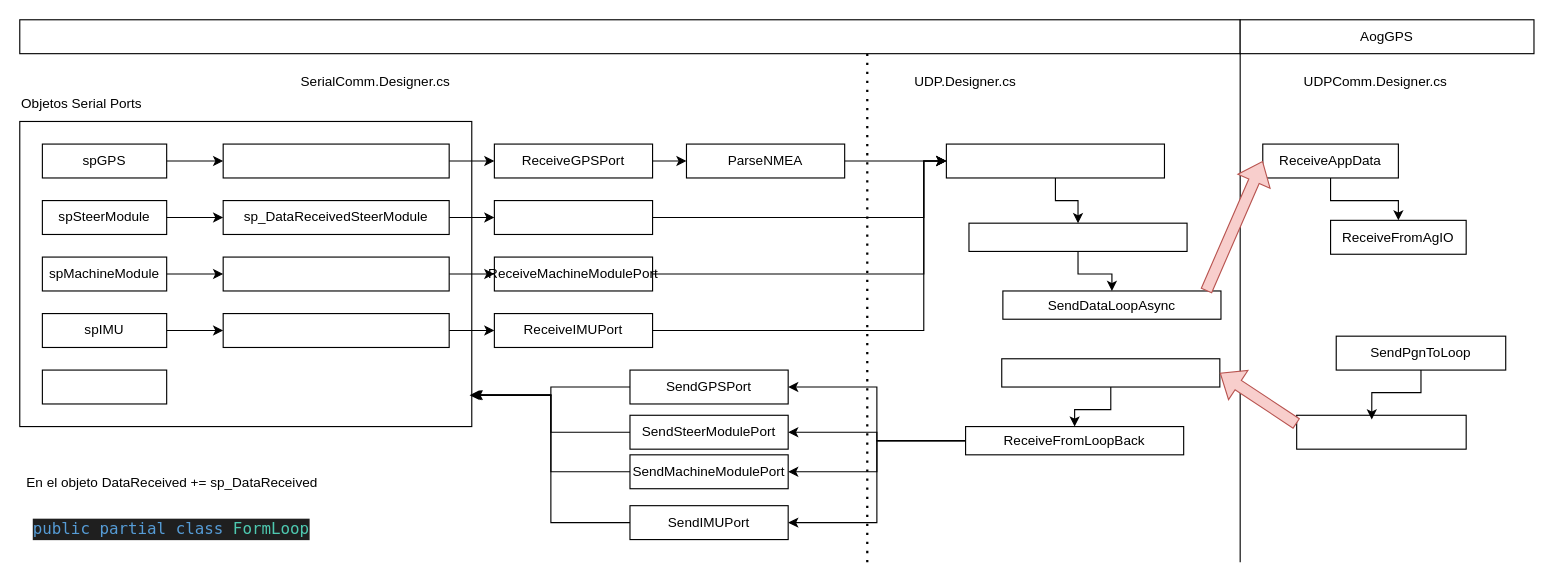
The diagram is 1554 pixels wide and 584 high, and some of its shapes have lost their labels. The box of each missing label's shape, as (x1, y1, x2, y2) in pixels:
AgIO: (19, 19, 1240, 54)
ReceiveDataLoopAsync: (1001, 358, 1220, 387)
ReceiveSteerModulePort: (493, 199, 653, 234)
SendAsyncLoopData: (1296, 414, 1466, 449)
SendDataToLoopBack: (968, 222, 1187, 251)
SendToLoopBackMessageAOG: (945, 143, 1164, 178)
sp_DataReceivedGPS: (222, 143, 449, 178)
sp_DataReceivedIMU: (222, 312, 449, 347)
sp_DataReceivedMachineModule: (222, 256, 449, 291)
spRtcm: (41, 369, 167, 404)
